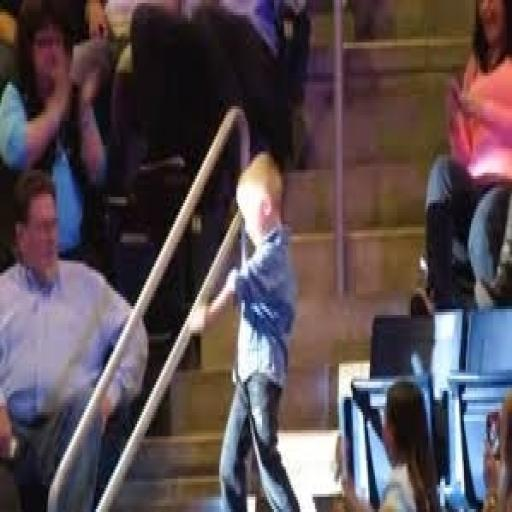dancing: (0, 167, 151, 509), (182, 148, 303, 509)
